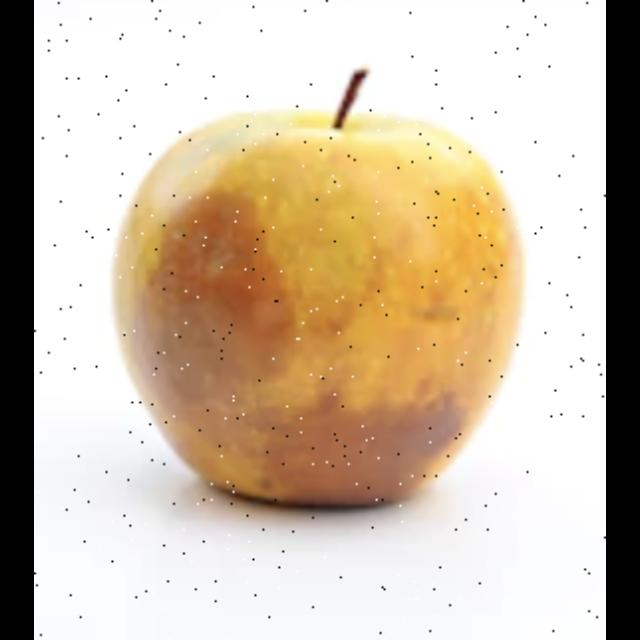Apel Tidak Segar: (118, 109, 522, 511)
